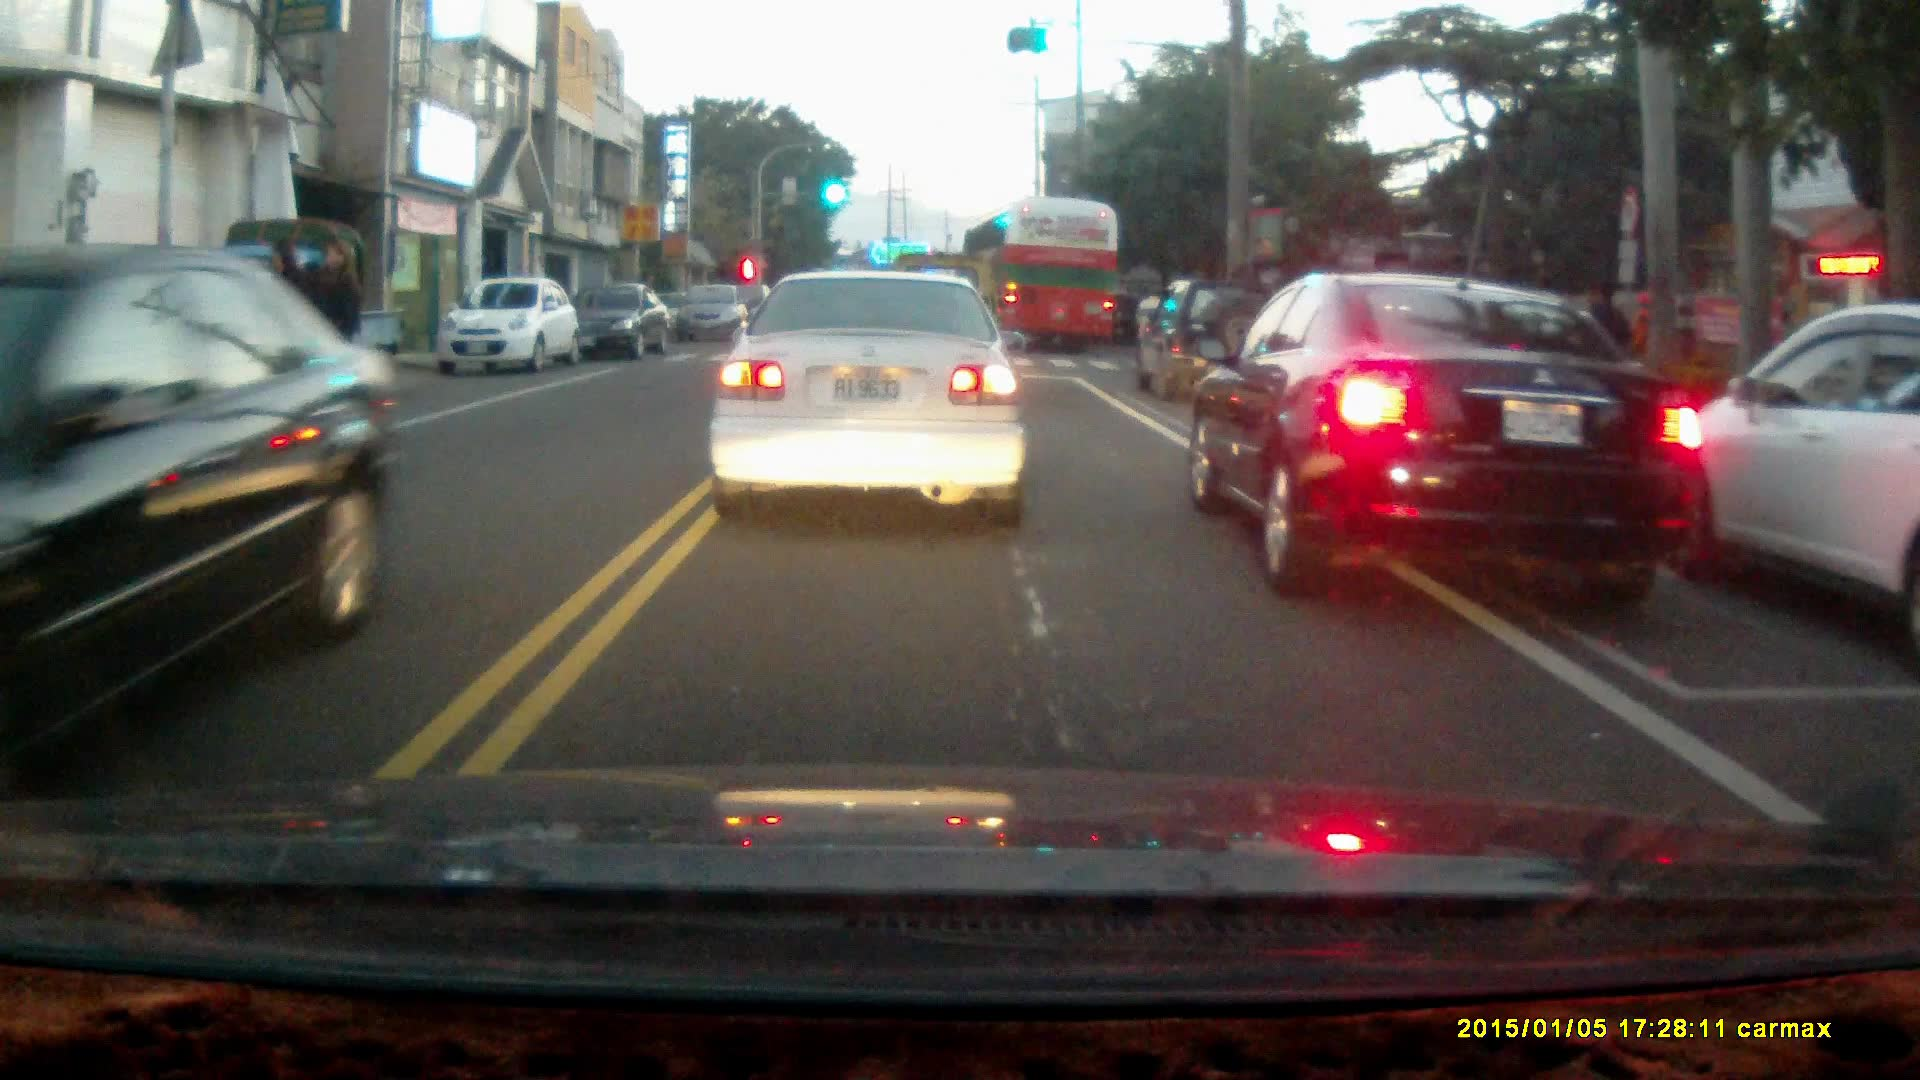pedestrian: (308, 236, 362, 432)
vehicle: (1, 254, 392, 774), (1188, 275, 1711, 593), (1639, 300, 1920, 611), (706, 265, 1030, 527), (173, 214, 415, 409), (963, 201, 1119, 357), (1141, 279, 1284, 403), (442, 279, 586, 378), (567, 278, 676, 363), (677, 285, 755, 344)
